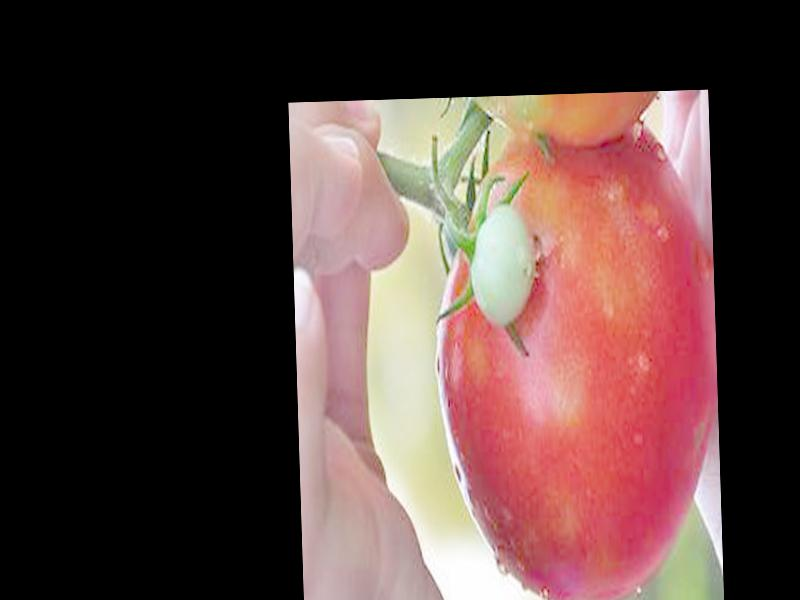Tomato: (429, 123, 724, 600)
